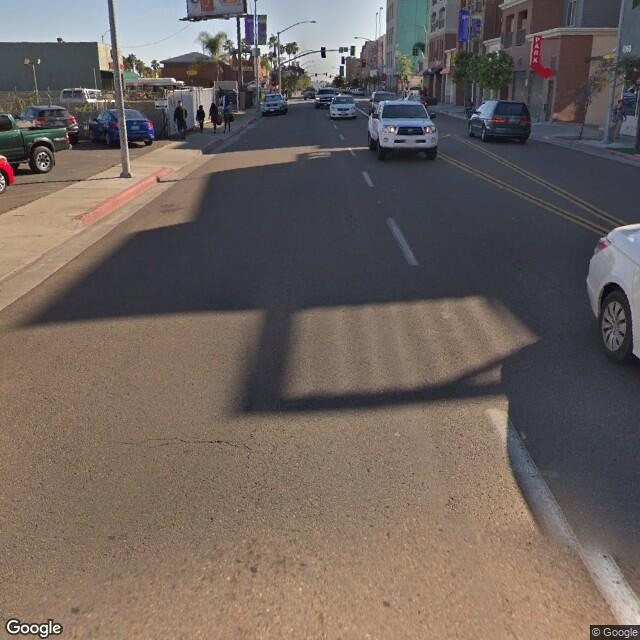road line: (357, 166, 432, 280)
